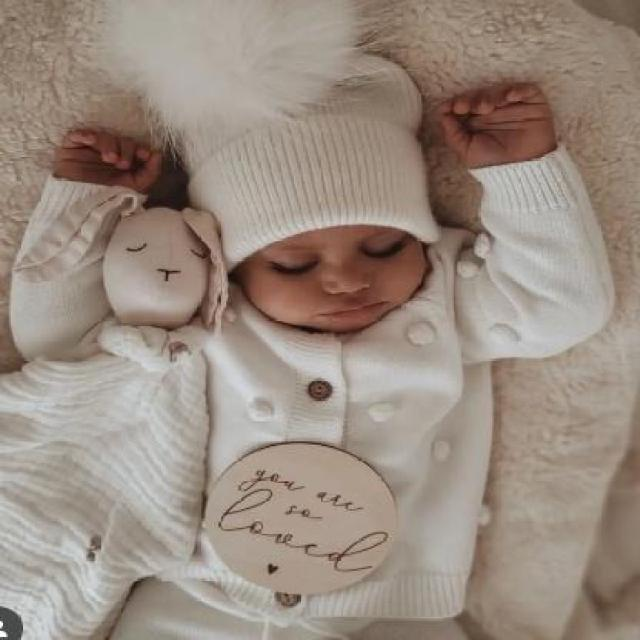baby: (9, 52, 618, 632)
